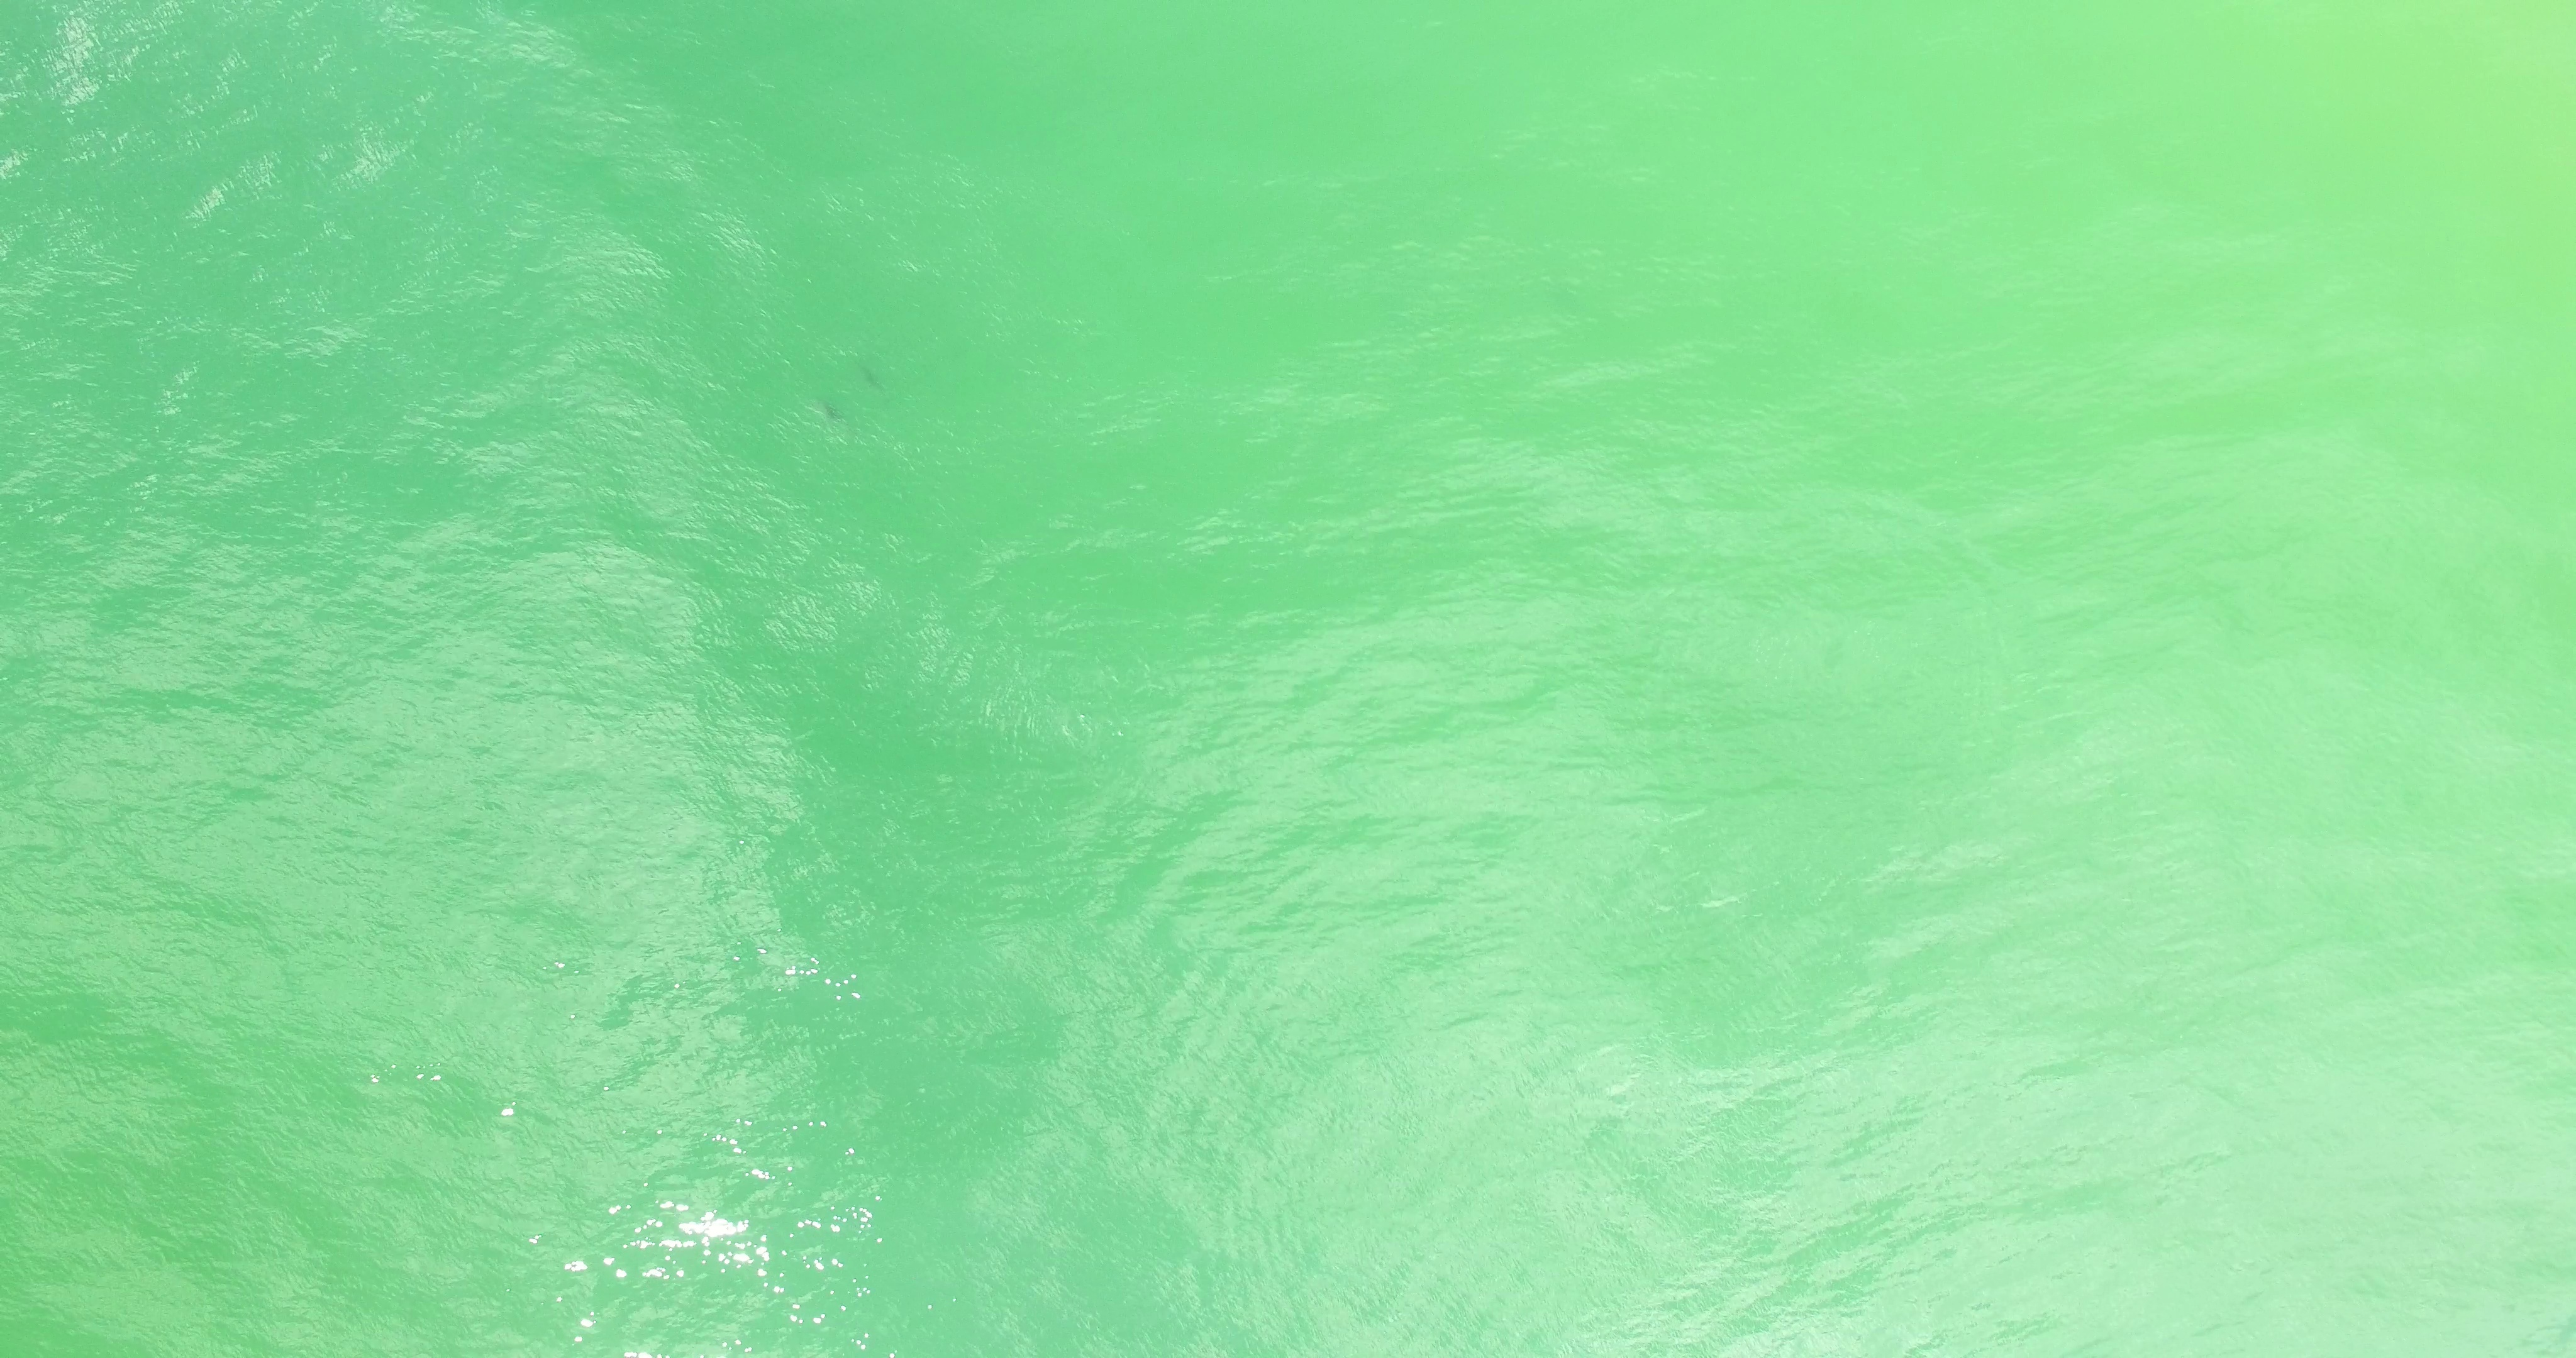dolphin: (855, 361, 886, 395), (818, 400, 845, 428)
